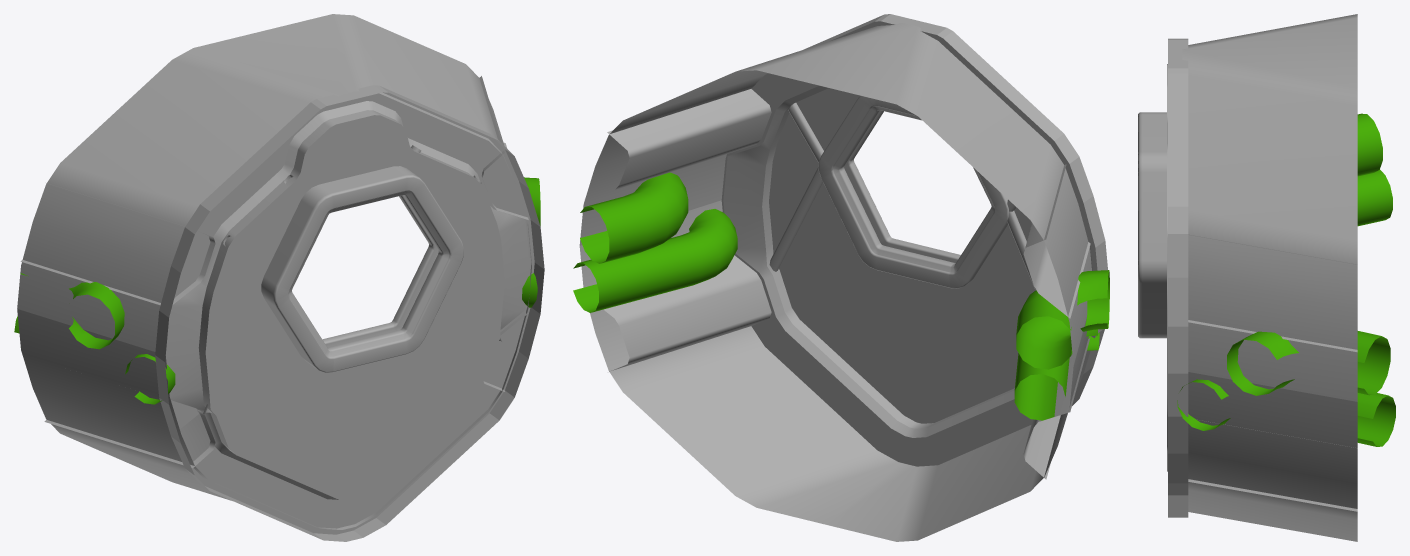
File: Couloir1.fbx
The picture shows the model from 3 angles, left to right: view 1: azimuth 30°, elevation 25°; view 2: azimuth 150°, elevation 25°; view 3: azimuth 270°, elevation 25°; orthographic projection. The views are drawn at different scales.
Visible parts, largest first — view 1: Couloir1_low; view 2: Couloir1_low; view 3: Couloir1_low.
Part boxes in pixels (x1,y1,x2,y2): Couloir1_low: [14, 14, 544, 541]; Couloir1_low: [573, 14, 1109, 541]; Couloir1_low: [1138, 14, 1395, 541].
Bounding box in the file's own units: 21.49 × 18.44 × 9.44.
